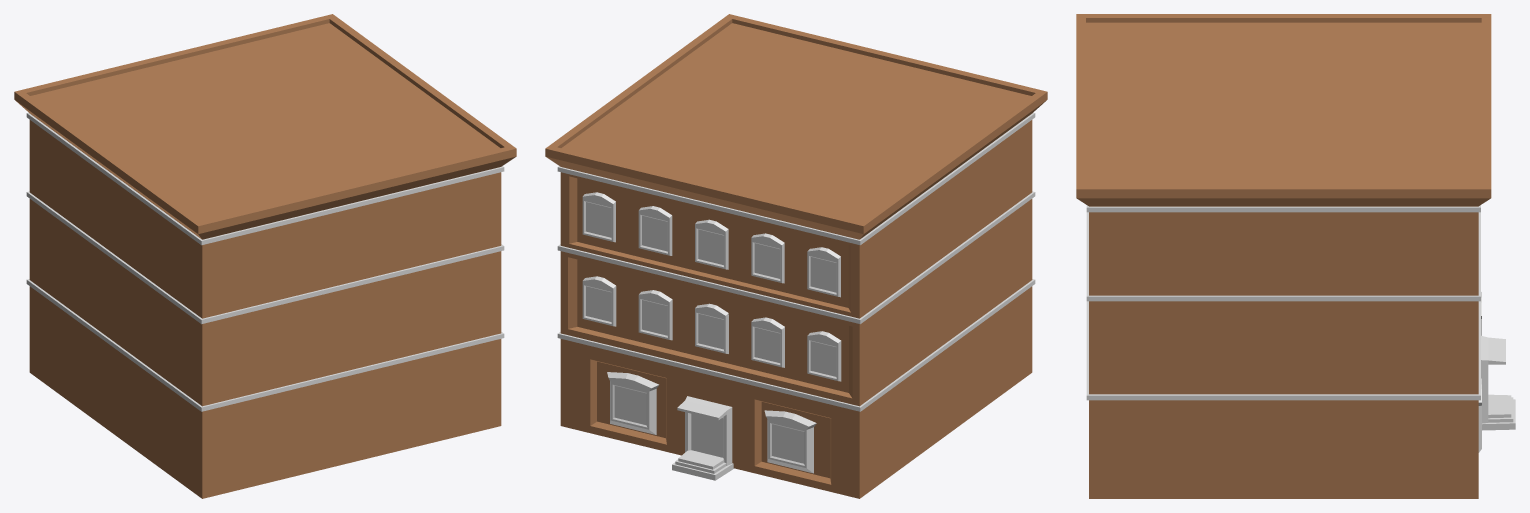
File: lp_flats1(Scaled).fbx
3 views of the same model, side by side, from view 1: azimuth 30°, elevation 25°; view 2: azimuth 150°, elevation 25°; view 3: azimuth 270°, elevation 25° (orthographic). The views are drawn at different scales.
Visible parts, largest first — view 1: Cube, Cube.008, Cube.007, Cube.020; view 2: Cube, Cube.008, Cube.007, Cube.020, Cube.002, Cube.023, Cube.022, Cube.004, Cube.003, Cube.005, Cube.012, Cube.006 (+6 smaller); view 3: Cube, Cube.007, Cube.008, Cube.020, Cube.002, Cube.001.
Boxes of the visible parts, x1,y1,x2,y2 form: Cube: [14, 14, 516, 498]; Cube.008: [26, 191, 504, 324]; Cube.007: [26, 279, 504, 411]; Cube.020: [26, 112, 504, 245]; Cube: [545, 14, 1047, 498]; Cube.008: [557, 191, 1035, 324]; Cube.007: [557, 279, 1035, 411]; Cube.020: [557, 112, 1035, 245]; Cube.002: [677, 396, 732, 465]; Cube.023: [764, 410, 816, 473]; Cube.022: [607, 372, 658, 434]; Cube.004: [582, 276, 616, 326]; Cube.003: [807, 331, 841, 381]; Cube.005: [638, 290, 672, 340]; Cube.012: [638, 206, 672, 255]; Cube.006: [751, 317, 784, 367]; Cube: [1076, 14, 1491, 498]; Cube.007: [1086, 301, 1480, 400]; Cube.008: [1086, 212, 1480, 301]; Cube.020: [1086, 205, 1480, 212]; Cube.002: [1481, 335, 1505, 423]; Cube.001: [1482, 394, 1515, 430].
Bounding box in the file's own units: 3285 × 2761 × 3479.
